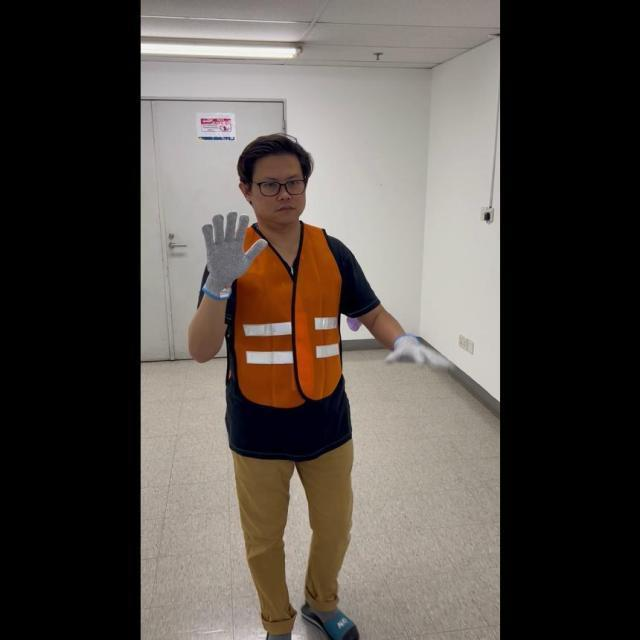gloved_hand: (196, 205, 263, 296), (381, 330, 451, 372)
